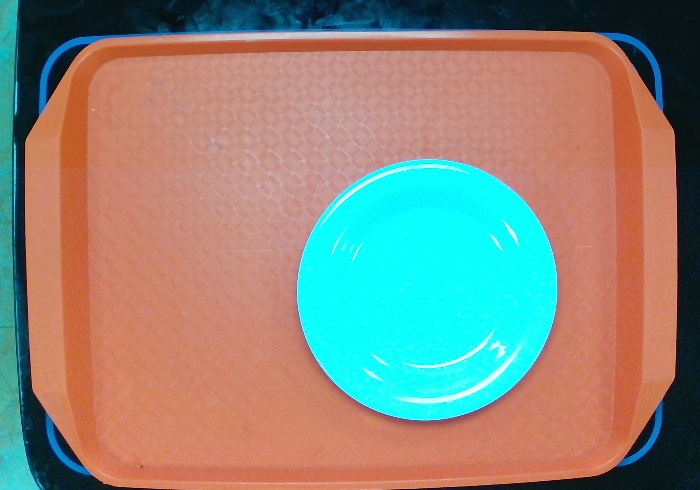RJxy-Yuan_Pan: (295, 154, 557, 424)
